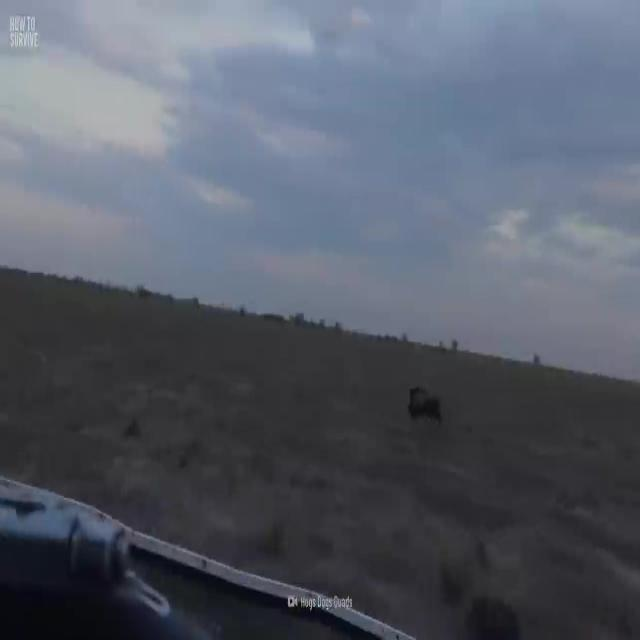pig: (392, 380, 443, 428)
